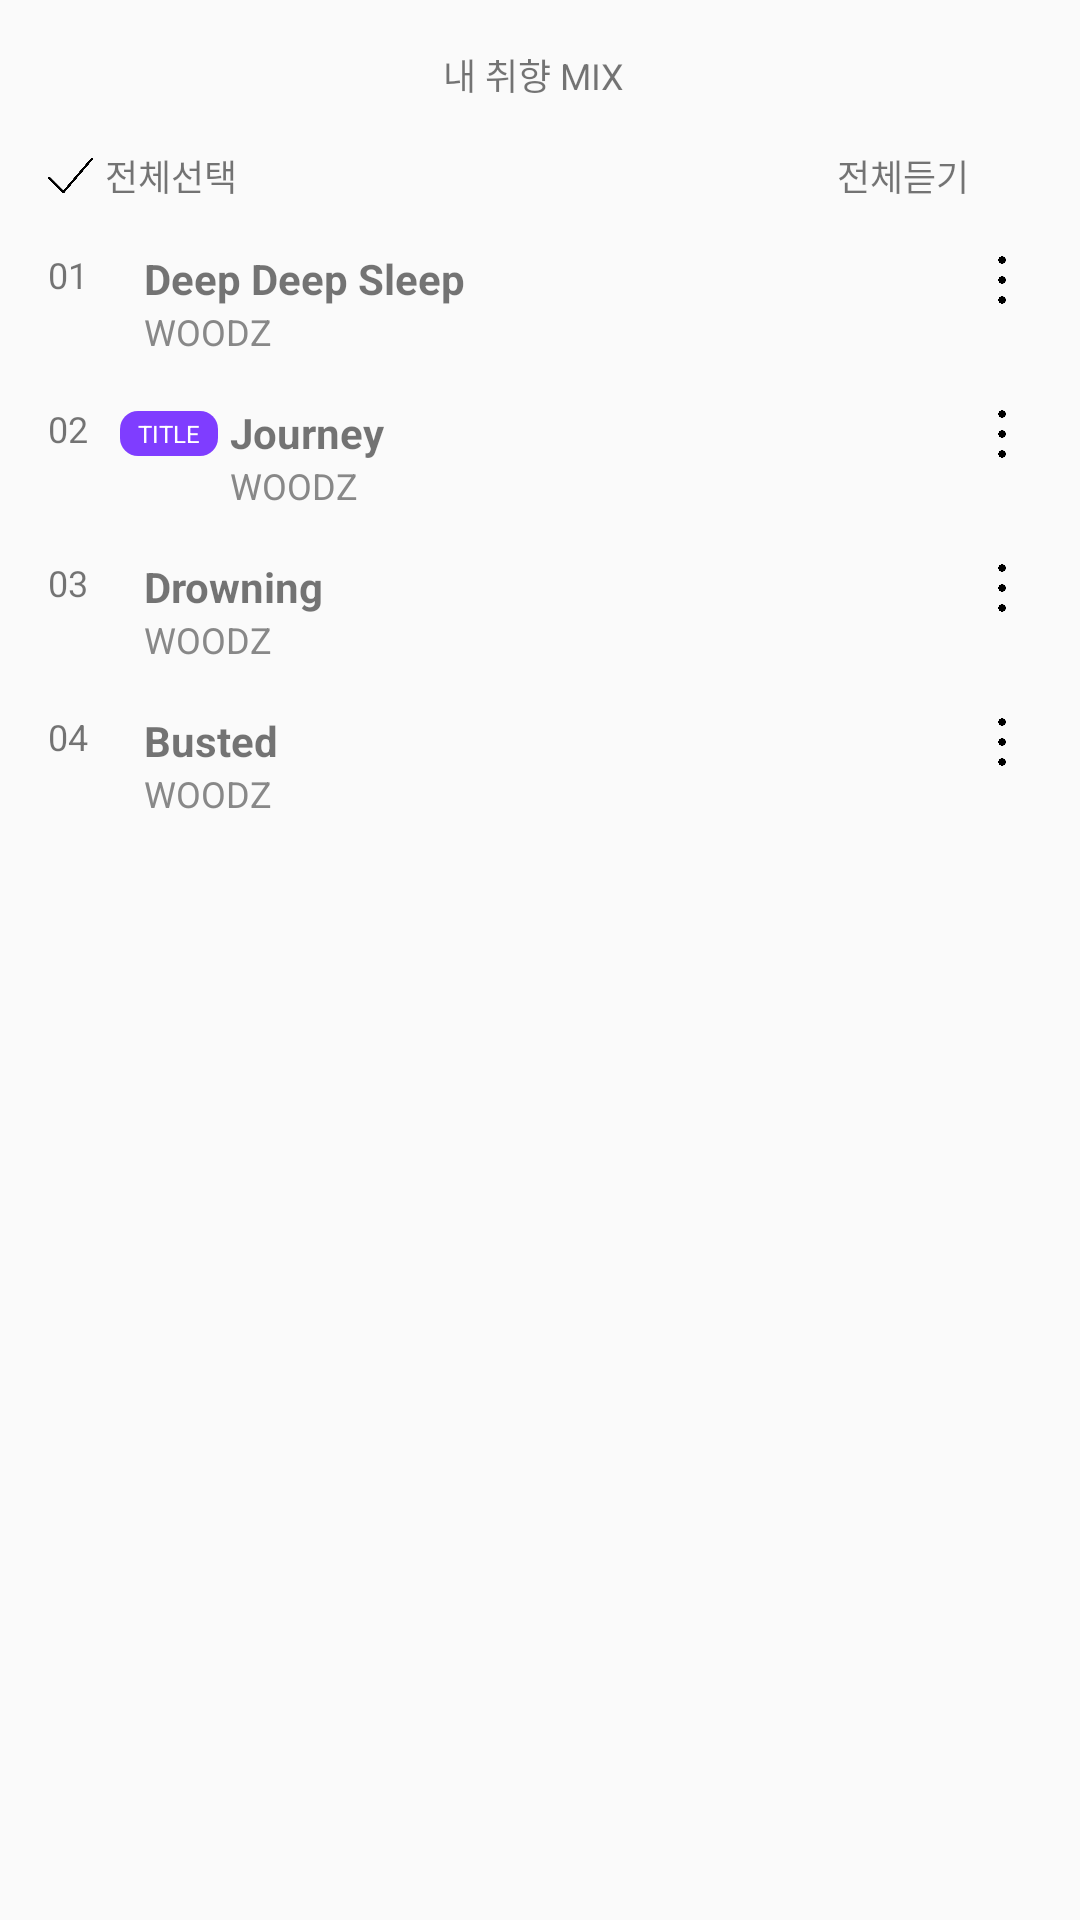

Named icons in this screenshot (1080 × 1920) and their centers, [x,y]:
checkmark: [70,175]
vertical: [1002,280], [1002,434], [1002,588], [1002,742]
